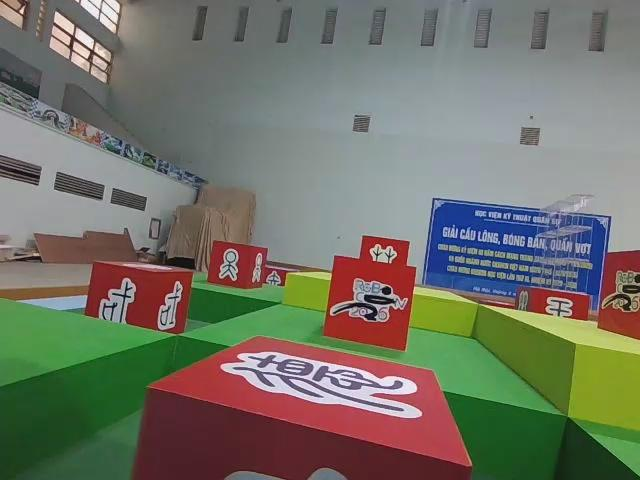R1: (325, 255, 418, 352), (595, 246, 640, 340)
R2 Fake: (128, 334, 474, 480)
R2 Real: (83, 260, 193, 337), (206, 241, 269, 289)
